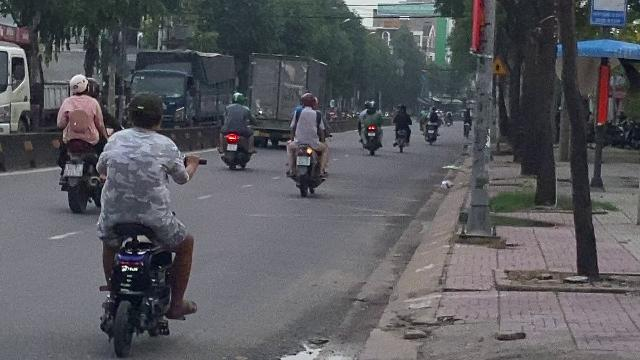helmet: (68, 74, 88, 94), (299, 92, 315, 106)
licenseplate: (65, 164, 83, 176), (296, 156, 310, 166)
motorcyclist: (88, 89, 202, 357), (53, 73, 107, 213), (282, 91, 330, 195)
nohelmet: (125, 92, 165, 131)
